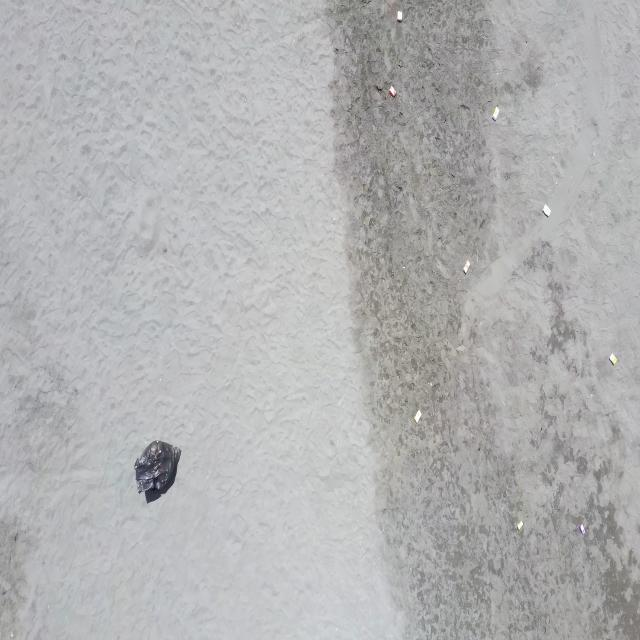retort-pouch: (462, 258, 472, 276), (491, 105, 501, 123), (412, 409, 423, 425), (542, 204, 552, 218), (388, 84, 398, 98), (608, 354, 618, 366), (516, 521, 525, 532), (396, 10, 404, 22), (578, 524, 586, 534)
